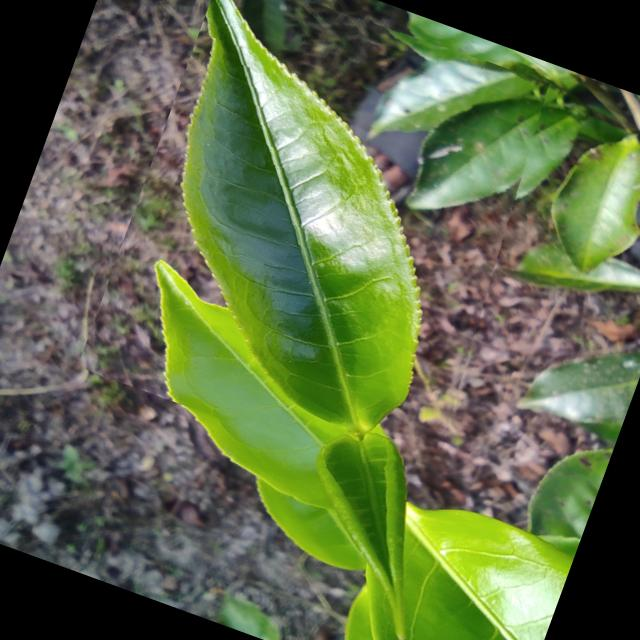Category B(2-4 days): (76, 0, 572, 493)
